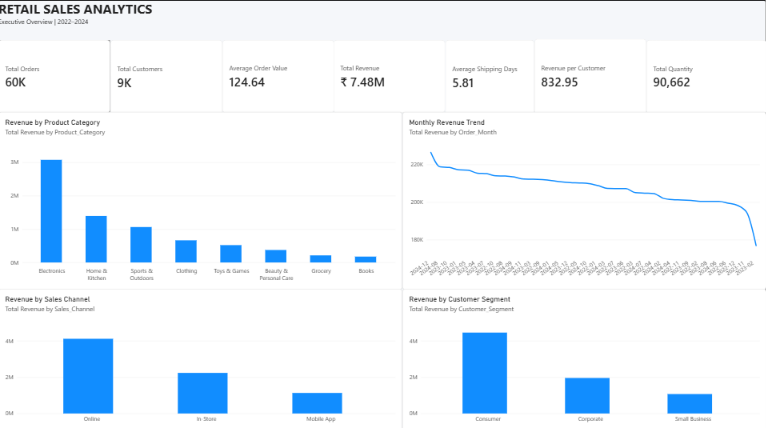

The page's visual inventory and layout, read from the dashboard file:
{"tool":"powerbi","page":{"name":"Executive Overview","canvas":[1920,1080],"ordinal":0},"visuals":[{"type":"cardVisual","fields":{"Data":["retail_sales_clean.Total Revenue"]},"box":[838.1,99,279.4,182.6],"z":0},{"type":"cardVisual","fields":{"Data":["retail_sales_clean.Total Orders"]},"box":[0,100.2,279.4,182.6],"z":1000},{"type":"cardVisual","fields":{"Data":["retail_sales_clean.Total Customers"]},"box":[280.2,100.2,280.2,186.1],"z":2000},{"type":"cardVisual","fields":{"Data":["retail_sales_clean.Average Order Value"]},"box":[558.8,99,279.4,182.6],"z":3000},{"type":"cardVisual","fields":{"Data":["retail_sales_clean.Total Quantity"]},"box":[1619.1,99,301.4,184.8],"z":4000},{"type":"cardVisual","fields":{"Data":["retail_sales_clean.Average Shipping Days"]},"box":[1117.5,99,222.2,187],"z":5000},{"type":"cardVisual","fields":{"Data":["retail_sales_clean.Revenue per Customer"]},"box":[1339.6,98.2,280.2,188.2],"z":6000},{"type":"clusteredColumnChart","title":"Revenue by Product Category","fields":{"Category":["retail_sales_clean.Product_Category"],"Y":["retail_sales_clean.Total Revenue"]},"box":[0,279.4,1009.7,444.4],"z":7000},{"type":"lineChart","title":"Monthly Revenue Trend","fields":{"Category":["retail_sales_clean.Order_Month"],"Y":["retail_sales_clean.Total Revenue"]},"box":[1009.7,279.4,910.7,444.4],"z":8000},{"type":"clusteredColumnChart","title":"Revenue by Sales Channel","fields":{"Category":["retail_sales_clean.Sales_Channel"],"Y":["retail_sales_clean.Total Revenue"]},"box":[0,723.7,1009.7,356.4],"z":9000},{"type":"clusteredColumnChart","title":"Revenue by Customer Segment","fields":{"Category":["retail_sales_clean.Customer_Segment"],"Y":["retail_sales_clean.Total Revenue"]},"box":[1009.7,723.7,910.7,356.4],"z":10000},{"type":"textbox","box":[0,0,928.3,143],"z":11000}]}

Visuals, with their boxes in screenshot pixels (x1, y1, x2, y2), scaled from the page's 1920x1080 canvas onto the 766x428 screenshot:
cardVisual - retail_sales_clean.Total Revenue: 334,39,446,112
cardVisual - retail_sales_clean.Total Orders: 0,40,111,112
cardVisual - retail_sales_clean.Total Customers: 112,40,224,113
cardVisual - retail_sales_clean.Average Order Value: 223,39,334,112
cardVisual - retail_sales_clean.Total Quantity: 646,39,765,112
cardVisual - retail_sales_clean.Average Shipping Days: 446,39,534,113
cardVisual - retail_sales_clean.Revenue per Customer: 534,39,646,113
"Revenue by Product Category" clusteredColumnChart: 0,111,403,287
"Monthly Revenue Trend" lineChart: 403,111,765,287
"Revenue by Sales Channel" clusteredColumnChart: 0,287,403,427
"Revenue by Customer Segment" clusteredColumnChart: 403,287,765,427
textbox: 0,0,370,57
